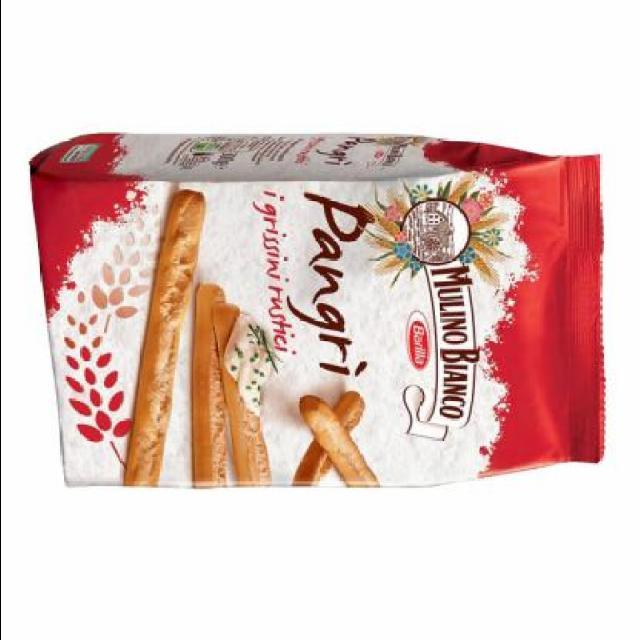Grissini: (110, 190, 208, 487)
